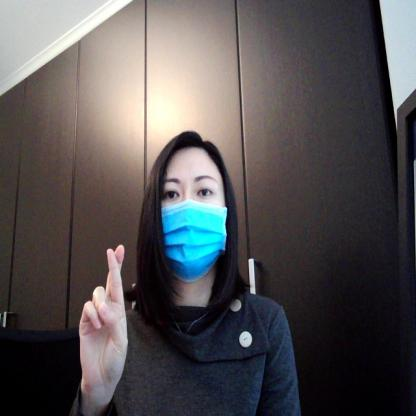right: (73, 235, 136, 399)
